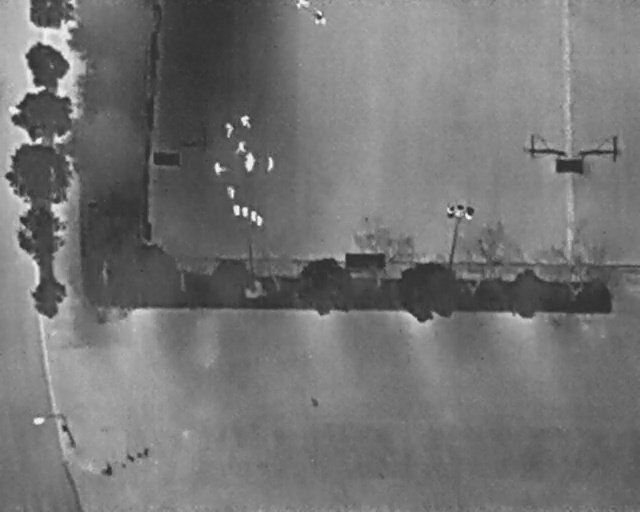Person: (313, 9, 327, 27), (236, 140, 247, 154), (241, 113, 251, 128), (226, 122, 234, 139), (294, 0, 309, 9), (266, 155, 273, 172), (215, 161, 223, 175), (227, 184, 235, 198), (246, 151, 255, 163), (245, 159, 253, 172)
